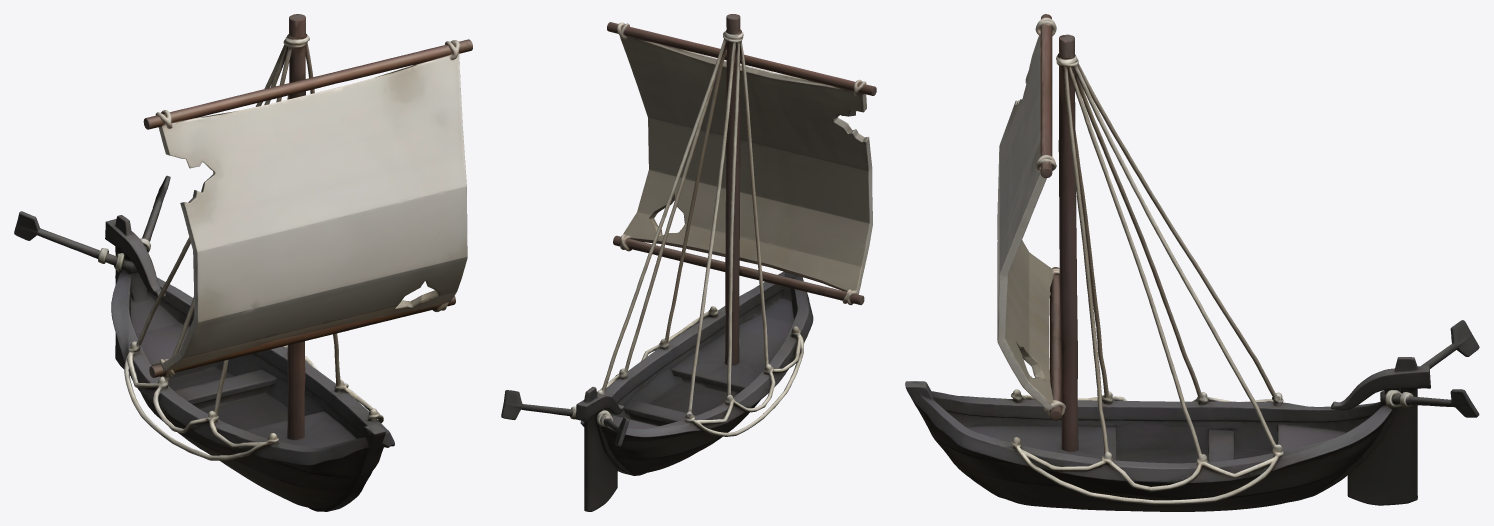
The model's file is sailboat+3d+model.fbx.
The picture shows the model from 3 angles, left to right: view 1: azimuth 30°, elevation 25°; view 2: azimuth 150°, elevation 25°; view 3: azimuth 270°, elevation 25°; orthographic projection. The views are drawn at different scales.
Parts seen in each view (by area): view 1: tripo_node_9874d886-6e7e-49ec-a26b-00cfdc54620a; view 2: tripo_node_9874d886-6e7e-49ec-a26b-00cfdc54620a; view 3: tripo_node_9874d886-6e7e-49ec-a26b-00cfdc54620a.
Boxes of the visible parts, <box> form: tripo_node_9874d886-6e7e-49ec-a26b-00cfdc54620a: <box>14,14,472,511</box>; tripo_node_9874d886-6e7e-49ec-a26b-00cfdc54620a: <box>501,14,876,511</box>; tripo_node_9874d886-6e7e-49ec-a26b-00cfdc54620a: <box>905,14,1479,511</box>.
Bounding box in the file's own units: 0.6363 × 0.8997 × 1.
